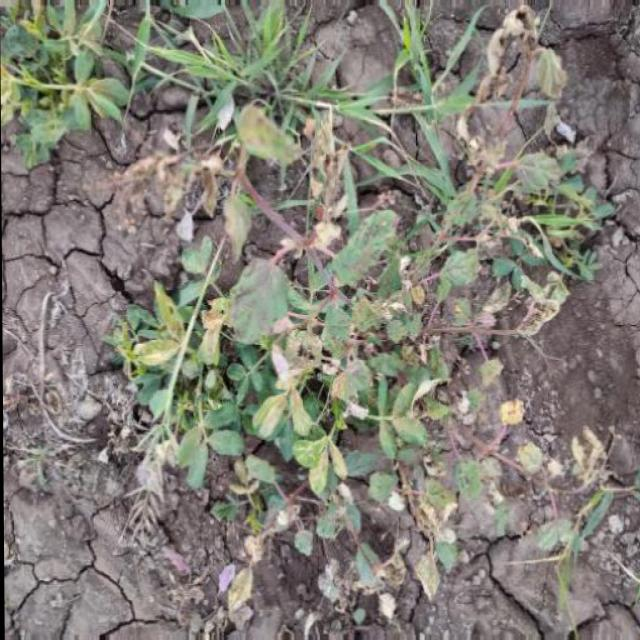weed: (97, 207, 589, 632), (2, 1, 367, 171)
